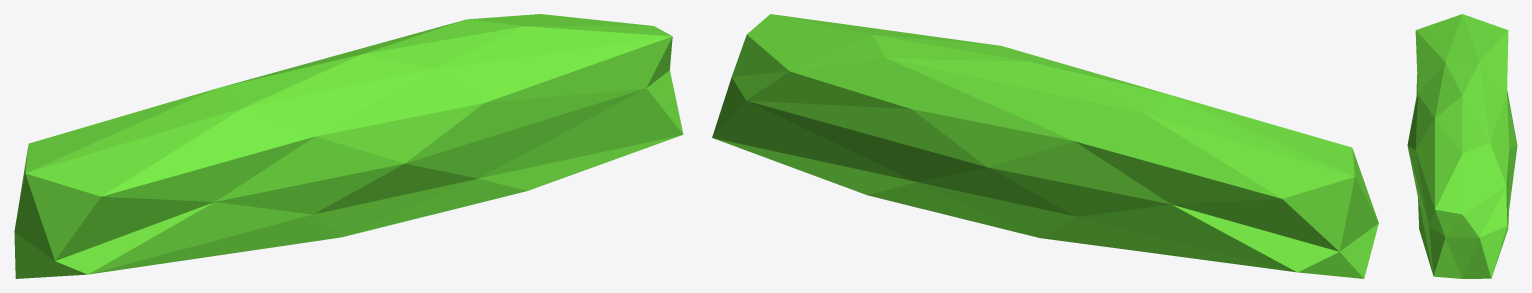
Rendered from Hedge.fbx.
3 views of the same model, side by side, from view 1: azimuth 30°, elevation 25°; view 2: azimuth 150°, elevation 25°; view 3: azimuth 270°, elevation 25° (orthographic). The views are drawn at different scales.
Visible parts, largest first — view 1: Icosphere; view 2: Icosphere; view 3: Icosphere.
Part boxes in pixels (x1,y1,x2,y2): Icosphere: (14, 14, 683, 278); Icosphere: (712, 14, 1378, 278); Icosphere: (1407, 14, 1517, 278).
Bounding box in the file's own units: 876 × 200 × 200.
